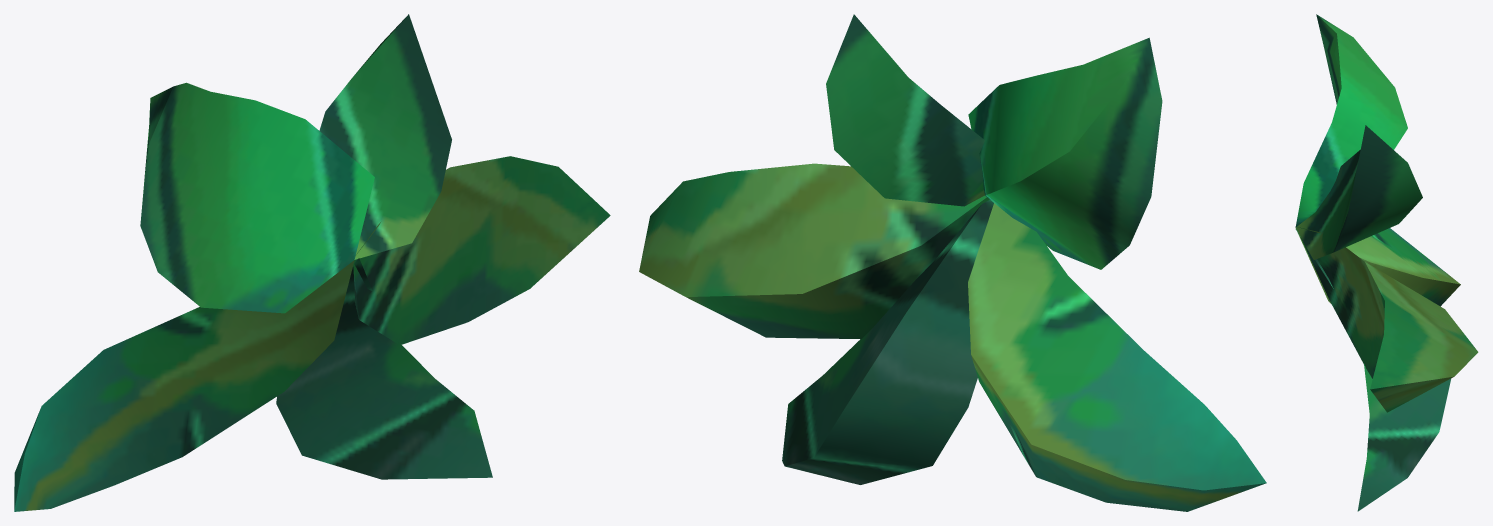
File: JunglePlant.fbx
3 renders of one model, left to right at view 1: azimuth 30°, elevation 25°; view 2: azimuth 150°, elevation 25°; view 3: azimuth 270°, elevation 25°, orthographic. The views are drawn at different scales.
Parts seen in each view (by area): view 1: JunglePlant; view 2: JunglePlant; view 3: JunglePlant.
Part boxes in pixels (x1,y1,x2,y2): JunglePlant: [14, 14, 610, 511]; JunglePlant: [639, 14, 1266, 511]; JunglePlant: [1295, 14, 1478, 511].
Size of the model in its own units: 101 by 78.41 by 35.05.
